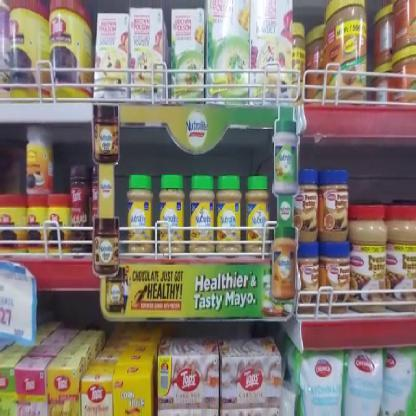Nutralite ACHARI MAYO 300g-275g-25g-: (218, 173, 242, 254), (245, 175, 269, 254)
Nutralite CHEESY GARLIC MAYO 300g-275g-25g-: (188, 176, 216, 253), (126, 174, 152, 256), (158, 176, 183, 257)
